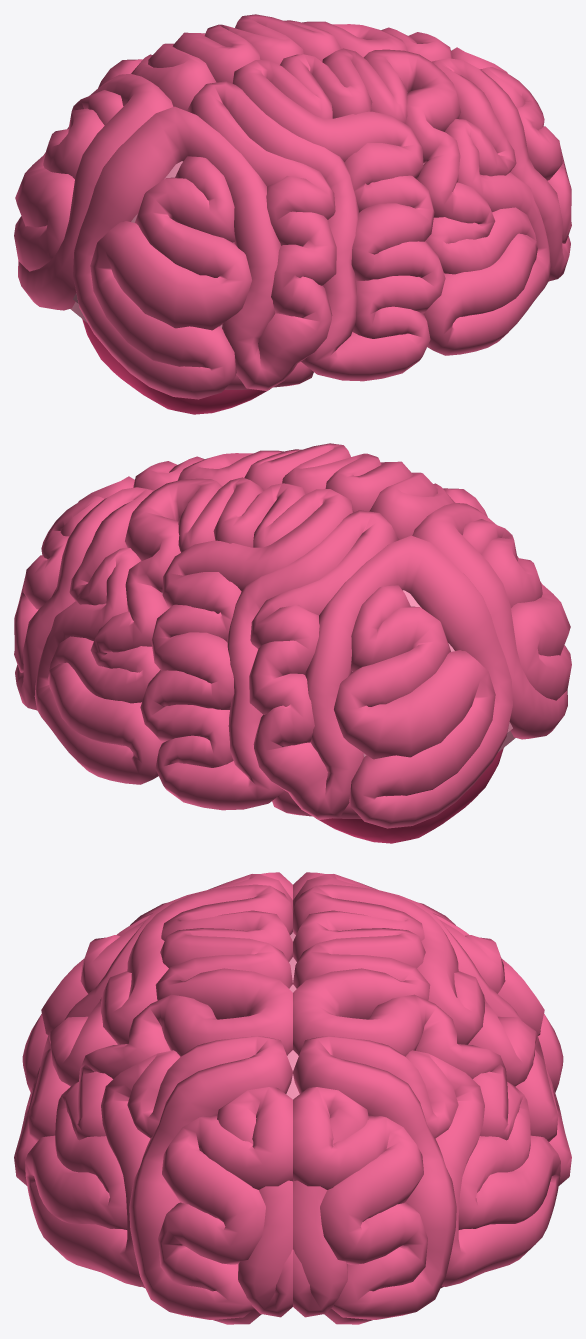
The model's file is brain.glb.
The picture shows the model from 3 angles, top to bottom: view 1: azimuth 30°, elevation 25°; view 2: azimuth 150°, elevation 25°; view 3: azimuth 270°, elevation 25°; orthographic projection. The views are drawn at different scales.
Parts seen in each view (by area): view 1: Plane.027, Cylinder.009; view 2: Plane.027, Cylinder.009; view 3: Plane.027.
Part boxes in pixels (x1=…): Plane.027: x1=14, y1=14, x2=571, y2=399; Cylinder.009: x1=82, y1=319, x2=269, y2=414; Plane.027: x1=14, y1=443, x2=571, y2=828; Cylinder.009: x1=316, y1=748, x2=503, y2=843; Plane.027: x1=14, y1=872, x2=571, y2=1324.
Bounding box in the file's own units: 2.23 × 1.46 × 1.99.
1 material, 1 textured.
